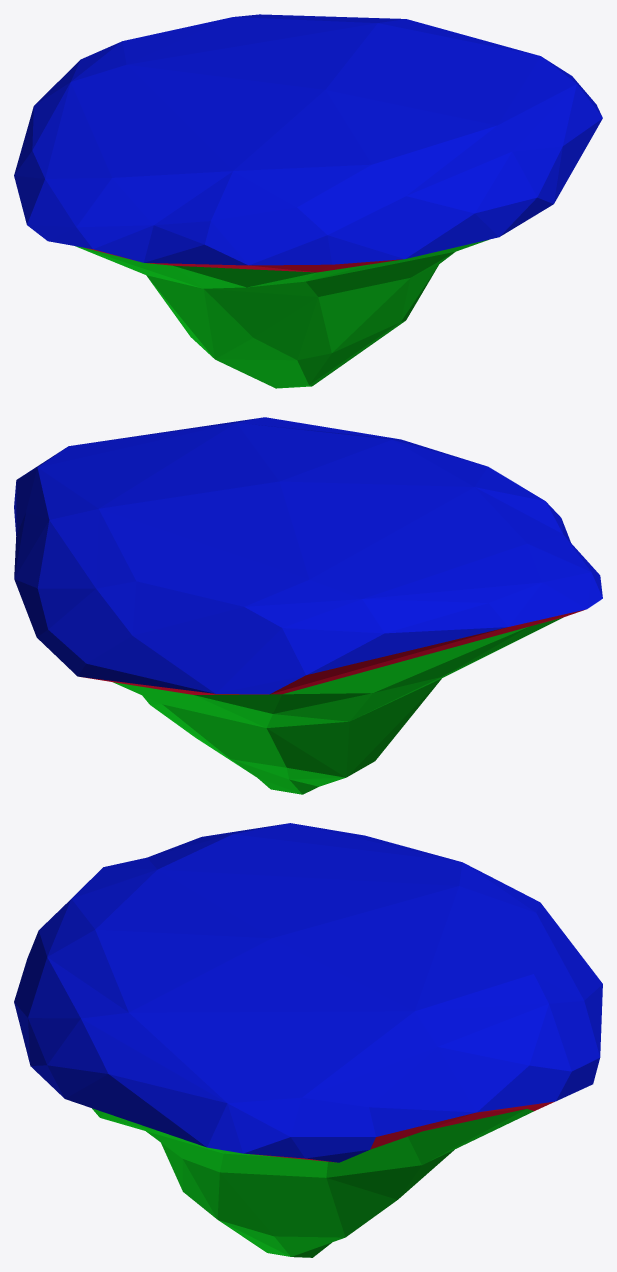
File: Rock_Island_1_Collider.fbx
The picture shows the model from 3 angles, top to bottom: view 1: azimuth 30°, elevation 25°; view 2: azimuth 150°, elevation 25°; view 3: azimuth 270°, elevation 25°; orthographic projection. The views are drawn at different scales.
Visible parts, largest first — view 1: Rock_Island_1_Collider; view 2: Rock_Island_1_Collider; view 3: Rock_Island_1_Collider.
Boxes of the visible parts, <box> form: Rock_Island_1_Collider: <box>14,14,602,388</box>; Rock_Island_1_Collider: <box>14,417,602,794</box>; Rock_Island_1_Collider: <box>14,823,602,1257</box>.
Size of the model in its own units: 1666 by 830 by 1364.
